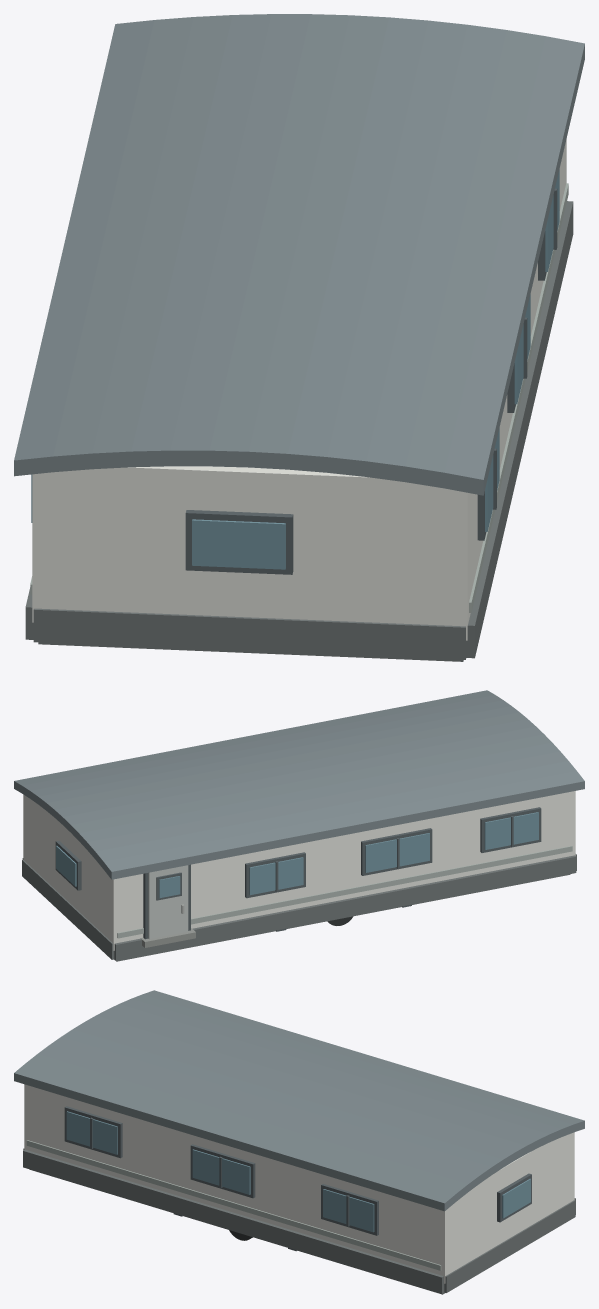
The picture shows the model from 3 angles, top to bottom: view 1: azimuth 30°, elevation 25°; view 2: azimuth 150°, elevation 25°; view 3: azimuth 270°, elevation 25°; orthographic projection. The views are drawn at different scales.
Visible parts, largest first — view 1: shallow_crowned_roof, main_caravan_body, lower_end_skirt_negative, lower_side_skirt_negative, rear_end_window_glass, rear_end_window_frame, side_stripe_negative, underframe_main; view 2: shallow_crowned_roof, main_caravan_body, lower_side_skirt_positive, side_stripe_positive, entrance_door_panel, positive_side_window_2_glass, lower_end_skirt_positive, positive_side_window_3_glass, positive_side_window_1_glass, positive_side_window_2_frame, positive_side_window_1_frame, positive_side_window_3_frame (+6 smaller); view 3: shallow_crowned_roof, main_caravan_body, lower_side_skirt_negative, side_stripe_negative, lower_end_skirt_positive, negative_side_window_2_glass, negative_side_window_1_glass, negative_side_window_3_glass, negative_side_window_2_frame, negative_side_window_1_frame, front_end_window_glass, negative_side_window_3_frame (+1 smaller).
Boxes of the visible parts, x1,y1,x2,y2 form: shallow_crowned_roof: (14,14,584,495); main_caravan_body: (32,139,566,640); lower_end_skirt_negative: (33,608,466,659); lower_side_skirt_negative: (466,201,573,658); rear_end_window_glass: (192,519,285,569); rear_end_window_frame: (185,510,293,574); side_stripe_negative: (469,183,568,612); underframe_main: (38,642,463,661); shallow_crowned_roof: (14,690,584,879); main_caravan_body: (23,791,575,950); lower_side_skirt_positive: (114,855,576,960); side_stripe_positive: (117,846,572,938); entrance_door_panel: (148,865,188,939); positive_side_window_2_glass: (365,833,429,872); lower_end_skirt_positive: (22,860,114,959); positive_side_window_3_glass: (249,857,303,895); positive_side_window_1_glass: (484,812,538,849); positive_side_window_2_frame: (361,828,432,875); positive_side_window_1_frame: (480,807,541,852); positive_side_window_3_frame: (245,852,305,898); shallow_crowned_roof: (14,990,584,1211); main_caravan_body: (24,1084,574,1283); lower_side_skirt_negative: (23,1149,444,1293); side_stripe_negative: (26,1140,441,1270); lower_end_skirt_positive: (444,1200,575,1292); negative_side_window_2_glass: (192,1149,250,1194); negative_side_window_1_glass: (66,1111,117,1154); negative_side_window_3_glass: (323,1189,374,1232); negative_side_window_2_frame: (190,1144,255,1198); negative_side_window_1_frame: (64,1106,122,1158); front_end_window_glass: (502,1178,530,1218); negative_side_window_3_frame: (321,1184,378,1235).
Size of the model in its own units: 9.67 by 2.5 by 10.95.
